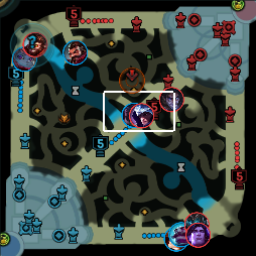braum: (168, 222, 193, 246)
graves: (63, 39, 86, 65)
kalista: (183, 212, 208, 236)
missfortune: (163, 228, 186, 252)
monkeyking: (22, 32, 46, 55)
poppy: (11, 47, 34, 71)
sylas: (159, 88, 182, 111)
talon: (129, 102, 153, 127)
taric: (187, 222, 210, 247)
